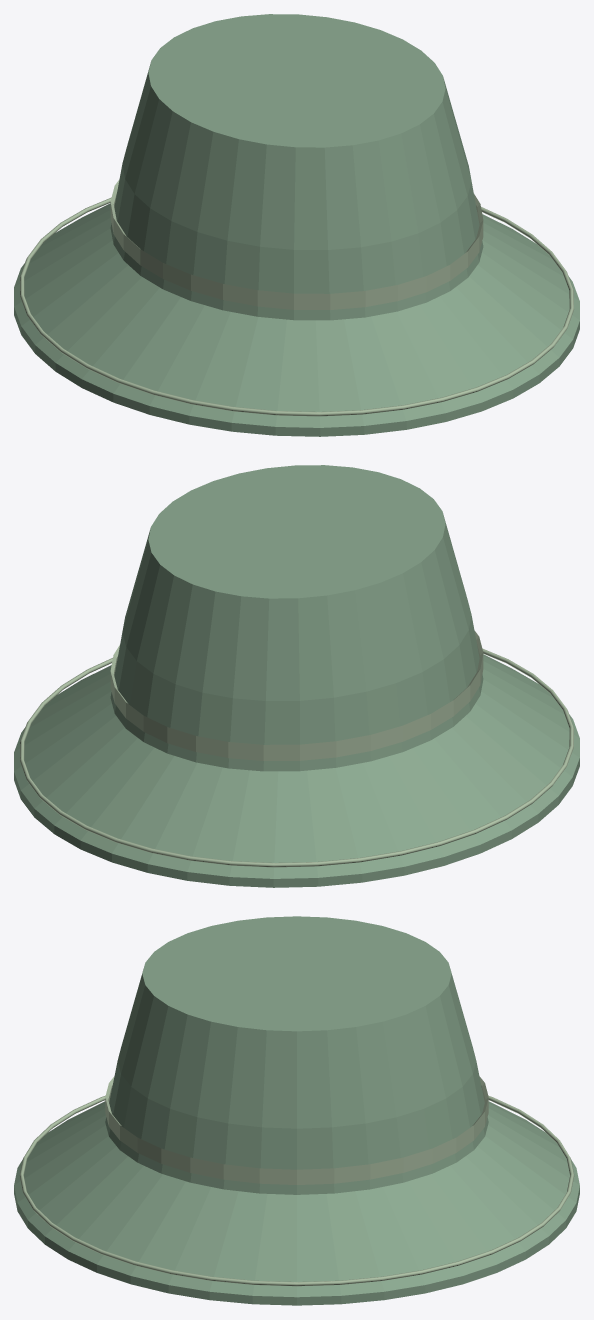
Rendered from hat_bucket.glb.
3 views of the same model, one above another, from view 1: azimuth 30°, elevation 25°; view 2: azimuth 150°, elevation 25°; view 3: azimuth 270°, elevation 25° (orthographic). The views are drawn at different scales.
Parts seen in each view (by area): view 1: Bucket_Tapered_Crown, Bucket_Downward_Brim, Bucket_Lower_Seam, Bucket_Brim_Stitch; view 2: Bucket_Tapered_Crown, Bucket_Downward_Brim, Bucket_Lower_Seam, Bucket_Brim_Stitch; view 3: Bucket_Tapered_Crown, Bucket_Downward_Brim, Bucket_Lower_Seam, Bucket_Brim_Stitch.
Part boxes in pixels (left/top/right/bottom): Bucket_Tapered_Crown: left=110, top=14, right=483, bottom=320; Bucket_Downward_Brim: left=14, top=203, right=579, bottom=436; Bucket_Lower_Seam: left=110, top=180, right=483, bottom=309; Bucket_Brim_Stitch: left=20, top=197, right=573, bottom=416; Bucket_Tapered_Crown: left=110, top=465, right=483, bottom=771; Bucket_Downward_Brim: left=14, top=654, right=579, bottom=887; Bucket_Lower_Seam: left=110, top=631, right=483, bottom=760; Bucket_Brim_Stitch: left=20, top=648, right=573, bottom=867; Bucket_Tapered_Crown: left=105, top=916, right=488, bottom=1194; Bucket_Downward_Brim: left=14, top=1101, right=579, bottom=1305; Bucket_Lower_Seam: left=105, top=1076, right=488, bottom=1184; Bucket_Brim_Stitch: left=19, top=1095, right=574, bottom=1286.
Size of the model in its own units: 0.342 by 0.157 by 0.366.
